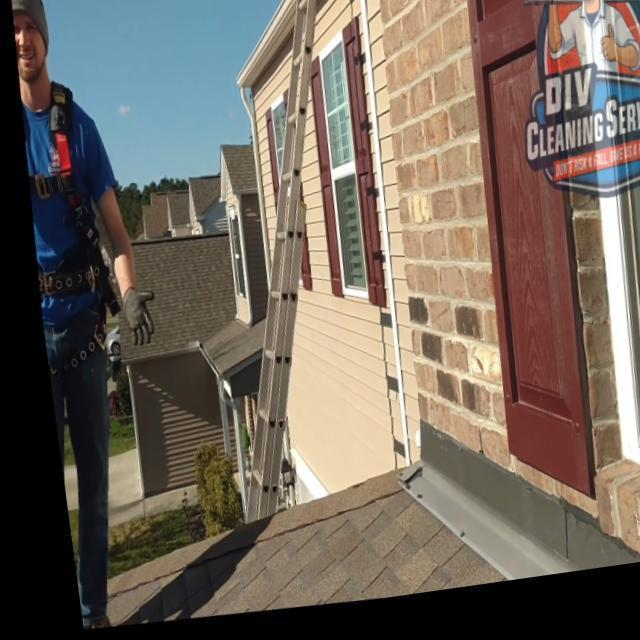Harness: (36, 82, 123, 319)
